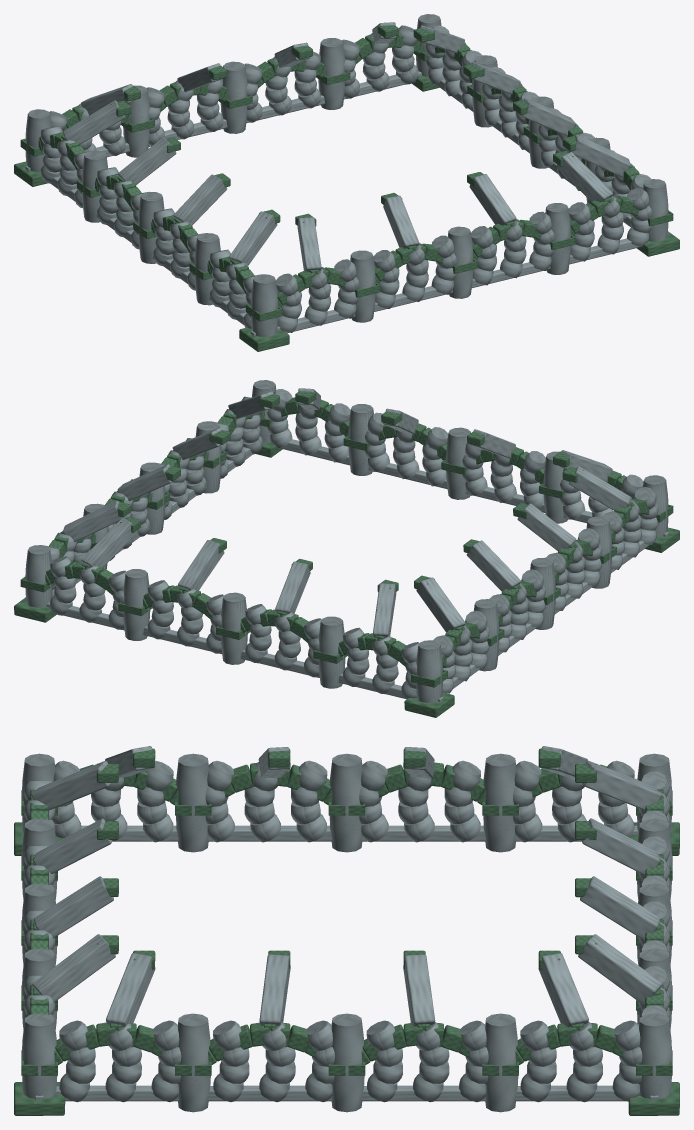
3 renders of one model, top to bottom at view 1: azimuth 30°, elevation 25°; view 2: azimuth 150°, elevation 25°; view 3: azimuth 270°, elevation 25°, orthographic. The views are drawn at different scales.
Visible parts, largest first — view 1: Tier 0 side 2 post 1, Tier 0 side 2 post 2, Tier 0 side 0 post 0, Crown petal 0-3, Tier 0 side 0 post 1, Tier 0 side 0 post 2, Tier 0 side 0 post 3, Crown petal 3-2, Crown petal 3-3, Crown petal 3-0, Crown petal 3-1, Tier 0 side 2 post 3 (+18 smaller); view 2: Tier 0 side 2 post 3, Tier 0 side 2 post 2, Tier 0 side 2 post 1, Tier 0 side 3 post 0, Tier 0 side 2 post 0, Tier 0 side 0 post 3, Crown petal 3-0, Crown petal 3-1, Tier 0 side 0 post 2, Crown petal 3-3, Crown petal 2-0, Crown petal 3-2 (+18 smaller); view 3: Tier 0 side 1 post 2, Tier 0 side 3 post 2, Tier 0 side 1 post 3, Tier 0 side 3 post 1, Tier 0 side 3 post 3, Tier 0 side 1 post 1, Crown petal 2-0, Tier 0 side 1 post 0, Crown petal 0-3, Tier 0 side 2 post 0, Crown petal 2-1, Crown petal 0-2 (+51 smaller).
Part boxes in pixels (<box>): Tier 0 side 2 post 1: <box>318,38,345,109</box>; Tier 0 side 2 post 2: <box>220,61,247,133</box>; Tier 0 side 0 post 0: <box>250,274,278,336</box>; Crown petal 0-3: <box>556,152,613,201</box>; Tier 0 side 0 post 1: <box>350,250,375,322</box>; Tier 0 side 0 post 2: <box>447,226,473,298</box>; Tier 0 side 0 post 3: <box>545,203,570,274</box>; Crown petal 3-2: <box>173,174,227,225</box>; Crown petal 3-3: <box>229,211,277,265</box>; Crown petal 3-0: <box>63,100,124,144</box>; Crown petal 3-1: <box>118,137,176,184</box>; Tier 0 side 2 post 3: <box>123,85,149,157</box>; Tier 0 side 2 post 3: <box>318,616,345,688</box>; Tier 0 side 2 post 2: <box>221,592,247,664</box>; Tier 0 side 2 post 1: <box>123,569,150,640</box>; Tier 0 side 3 post 0: <box>416,640,443,702</box>; Tier 0 side 2 post 0: <box>25,545,52,607</box>; Tier 0 side 0 post 3: <box>348,404,373,475</box>; Crown petal 3-0: <box>416,577,465,632</box>; Crown petal 3-1: <box>466,540,521,591</box>; Tier 0 side 0 post 2: <box>446,427,470,499</box>; Crown petal 3-3: <box>569,466,630,510</box>; Crown petal 2-0: <box>81,518,137,567</box>; Crown petal 3-2: <box>517,503,576,550</box>; Tier 0 side 1 post 2: <box>331,1013,364,1112</box>; Tier 0 side 3 post 2: <box>329,753,362,852</box>; Tier 0 side 1 post 3: <box>485,1013,518,1112</box>; Tier 0 side 3 post 1: <box>483,753,516,852</box>; Tier 0 side 3 post 3: <box>176,753,208,852</box>; Tier 0 side 1 post 1: <box>177,1013,210,1112</box>; Crown petal 2-0: <box>578,934,662,1005</box>; Tier 0 side 1 post 0: <box>21,1013,57,1098</box>; Crown petal 0-3: <box>32,934,115,1002</box>; Tier 0 side 2 post 0: <box>638,1013,672,1098</box>; Crown petal 2-1: <box>580,876,660,940</box>; Crown petal 0-2: <box>33,876,113,938</box>.
Bounding box in the file's own units: 1.95 × 0.4031 × 1.95.
2 materials, 2 textured.
